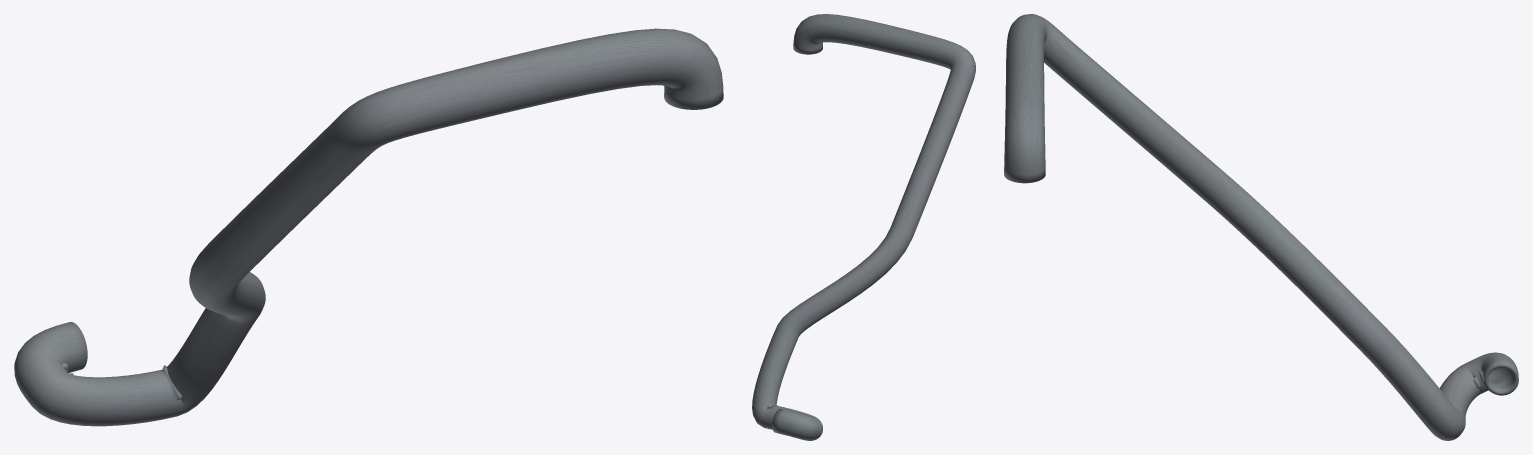
File: TurboCharger_Intercooler_Manifold_TwinCarb_Pipe.obj
The picture shows the model from 3 angles, left to right: view 1: azimuth 30°, elevation 25°; view 2: azimuth 150°, elevation 25°; view 3: azimuth 270°, elevation 25°; orthographic projection. The views are drawn at different scales.
Parts seen in each view (by area): view 1: TurboCharger_Intercooler_Manifold_TwinCarb_Pipe_BezierCurve.012; view 2: TurboCharger_Intercooler_Manifold_TwinCarb_Pipe_BezierCurve.012; view 3: TurboCharger_Intercooler_Manifold_TwinCarb_Pipe_BezierCurve.012.
Boxes of the visible parts, bbox=[...] form: TurboCharger_Intercooler_Manifold_TwinCarb_Pipe_BezierCurve.012: bbox=[14, 28, 723, 426]; TurboCharger_Intercooler_Manifold_TwinCarb_Pipe_BezierCurve.012: bbox=[752, 14, 975, 440]; TurboCharger_Intercooler_Manifold_TwinCarb_Pipe_BezierCurve.012: bbox=[1004, 14, 1518, 440].
Bounding box in the file's own units: 0.3965 × 0.5737 × 0.6723.
